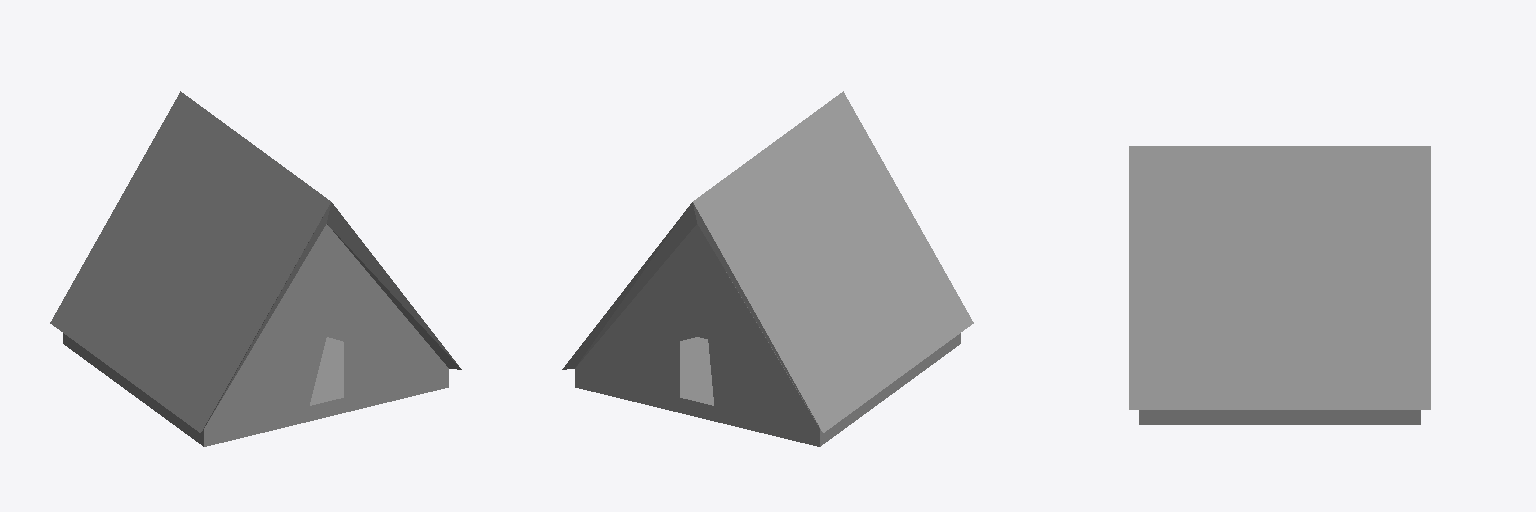
File: aframeHouse1.obj
3 views of the same model, side by side, from view 1: azimuth 30°, elevation 25°; view 2: azimuth 150°, elevation 25°; view 3: azimuth 270°, elevation 25° (orthographic).
Parts seen in each view (by area): view 1: Cube; view 2: Cube; view 3: Cube.
Part boxes in pixels (bbox=[...]): Cube: bbox=[50, 91, 461, 446]; Cube: bbox=[562, 91, 973, 446]; Cube: bbox=[1129, 146, 1430, 424].
Bounding box in the file's own units: 10.67 × 8.55 × 10.67.